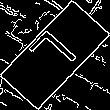L_SE: (25, 26, 85, 84)
